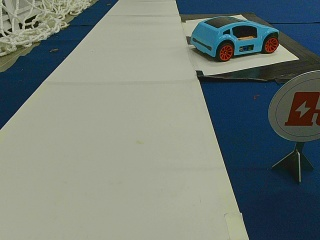battery: (268, 68, 319, 143)
car: (190, 18, 279, 60)
